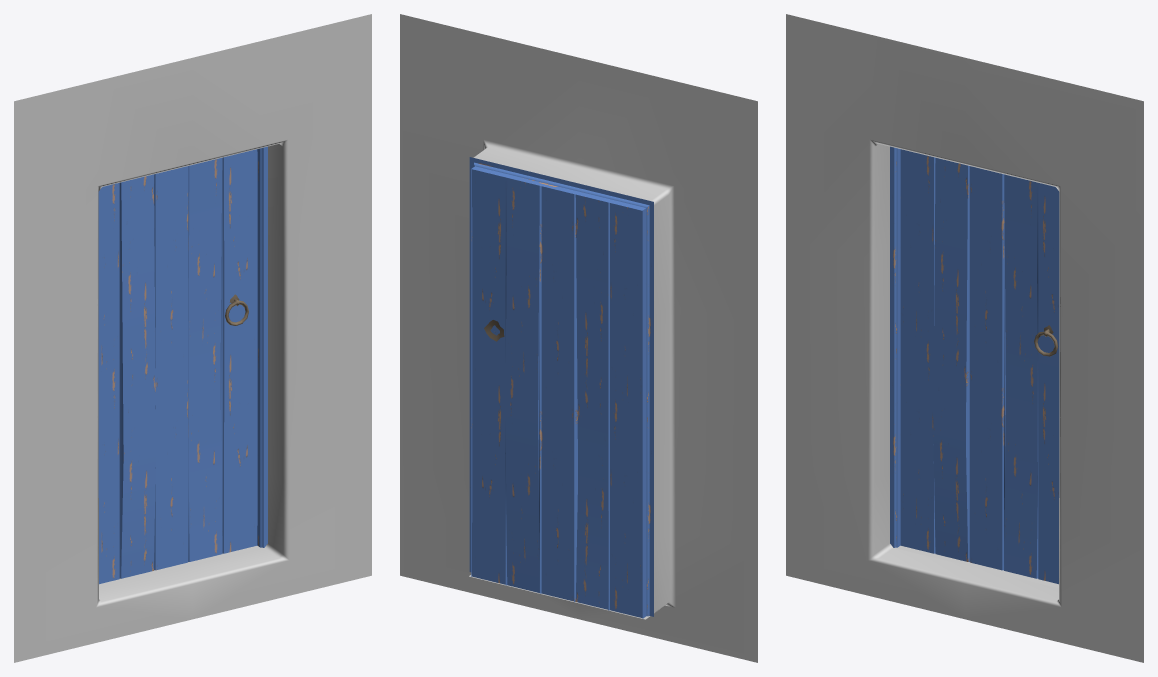
File: WallSimpleDoor.fbx
3 views of the same model, side by side, from view 1: azimuth 30°, elevation 25°; view 2: azimuth 150°, elevation 25°; view 3: azimuth 330°, elevation 25° (orthographic).
Parts seen in each view (by area): view 1: WallSimpleDoor; view 2: WallSimpleDoor; view 3: WallSimpleDoor.
Part boxes in pixels (x1,y1,x2,y2): WallSimpleDoor: (14, 14, 371, 662); WallSimpleDoor: (400, 14, 757, 662); WallSimpleDoor: (786, 14, 1143, 662).
Size of the model in its own units: 200 by 300 by 22.28.
Materials: 3 (1 with a texture image).
